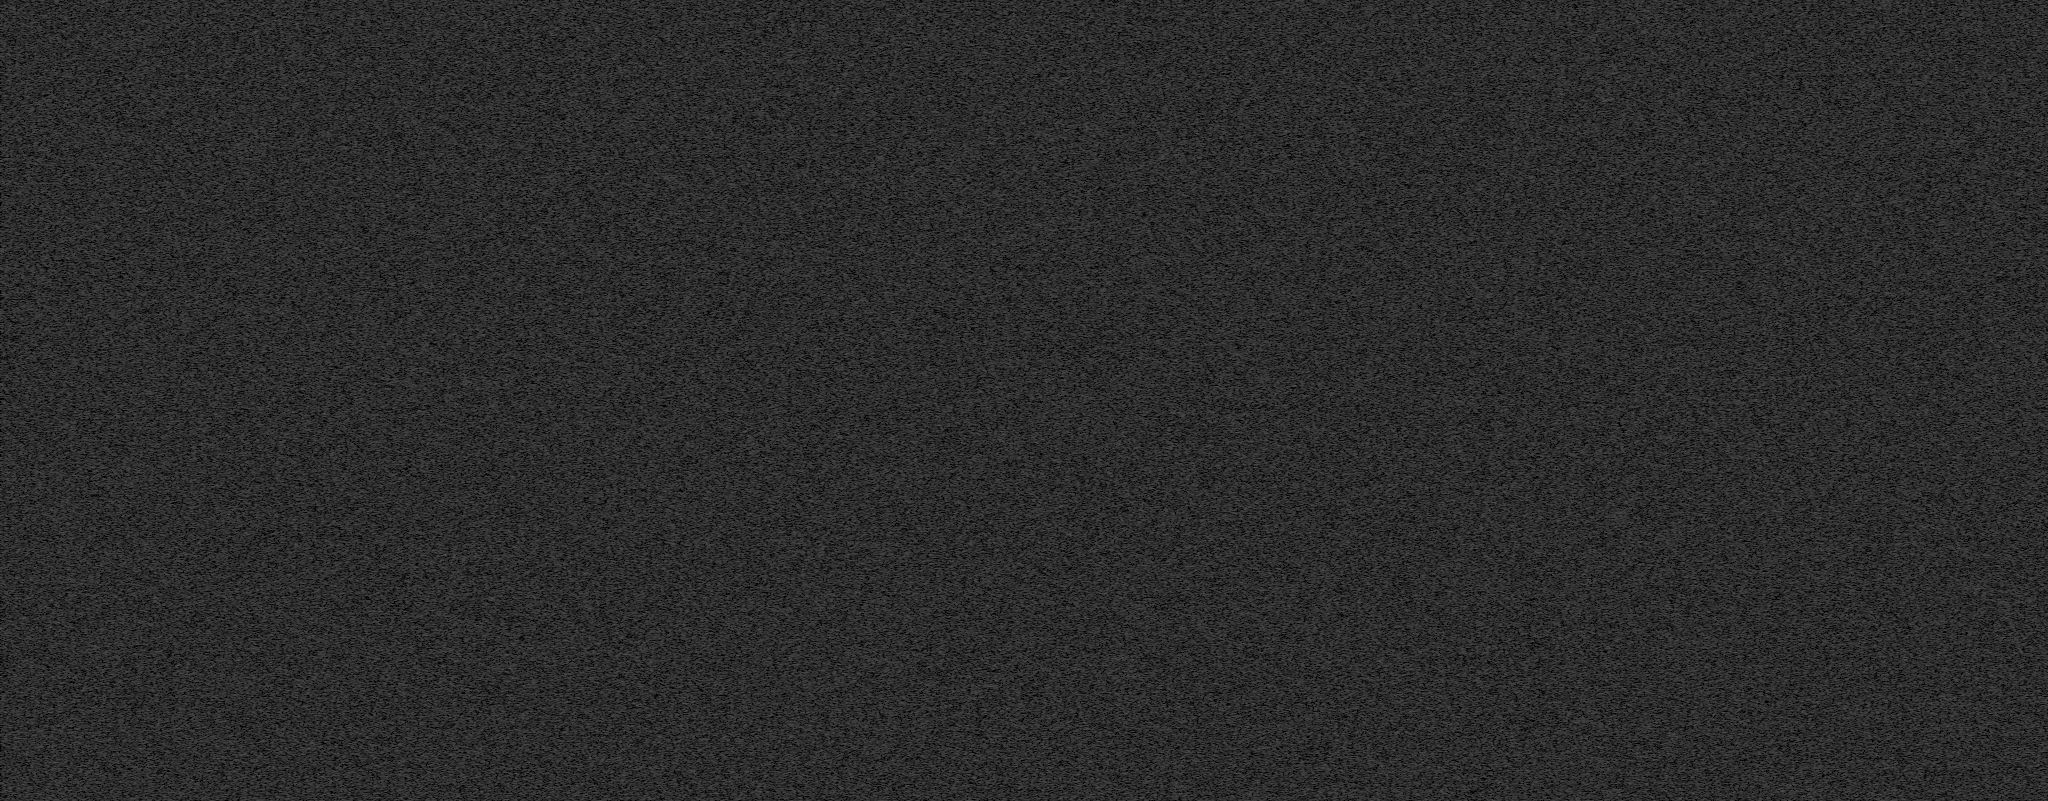wv_am: (744, 0, 750, 800)
wv_cw: (1741, 0, 1748, 800), (573, 0, 579, 800), (300, 0, 306, 800)
wv_lsb: (199, 374, 202, 427), (199, 125, 202, 162), (199, 84, 202, 107), (199, 450, 202, 472), (199, 67, 202, 84), (199, 108, 202, 124), (199, 435, 202, 450), (199, 170, 202, 183), (199, 55, 202, 67), (199, 365, 202, 372), (199, 534, 202, 541), (199, 473, 202, 478), (199, 429, 202, 434), (199, 246, 202, 251), (199, 679, 202, 683), (199, 542, 202, 546), (199, 480, 202, 483), (199, 361, 202, 365), (199, 213, 202, 217), (199, 550, 202, 553), (199, 486, 202, 489), (199, 237, 202, 239), (199, 192, 202, 195), (199, 188, 202, 191), (199, 166, 202, 169), (199, 5, 202, 8)
wv_usb: (372, 289, 377, 800), (182, 54, 185, 495), (372, 39, 377, 244), (182, 497, 185, 597), (182, 598, 185, 683), (182, 725, 185, 800), (182, 3, 185, 52), (374, 246, 377, 287), (182, 683, 185, 724), (374, 7, 377, 27), (374, 29, 377, 37)
wv_wbfm: (204, 0, 226, 800), (590, 0, 611, 800)
